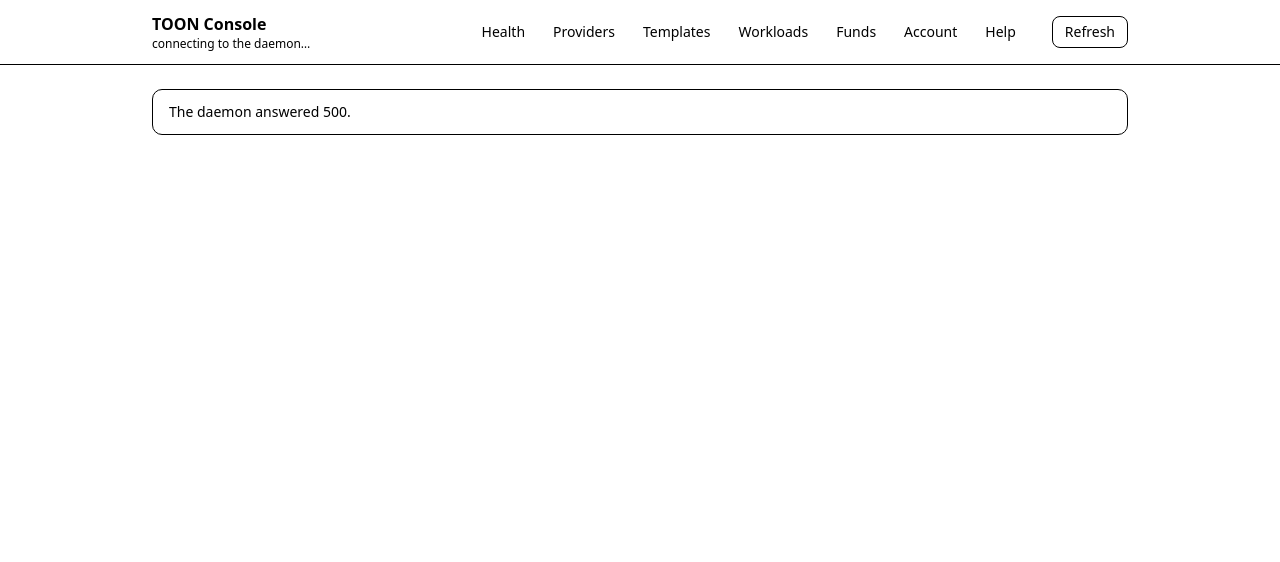
Scenario: signing in with a Nostr signer › shows a nostrconnect invitation to scan
This screenshot has width=1280, height=562.
Click the button "Account" at (931, 32), box x1=892 y1=16 x2=969 y2=48
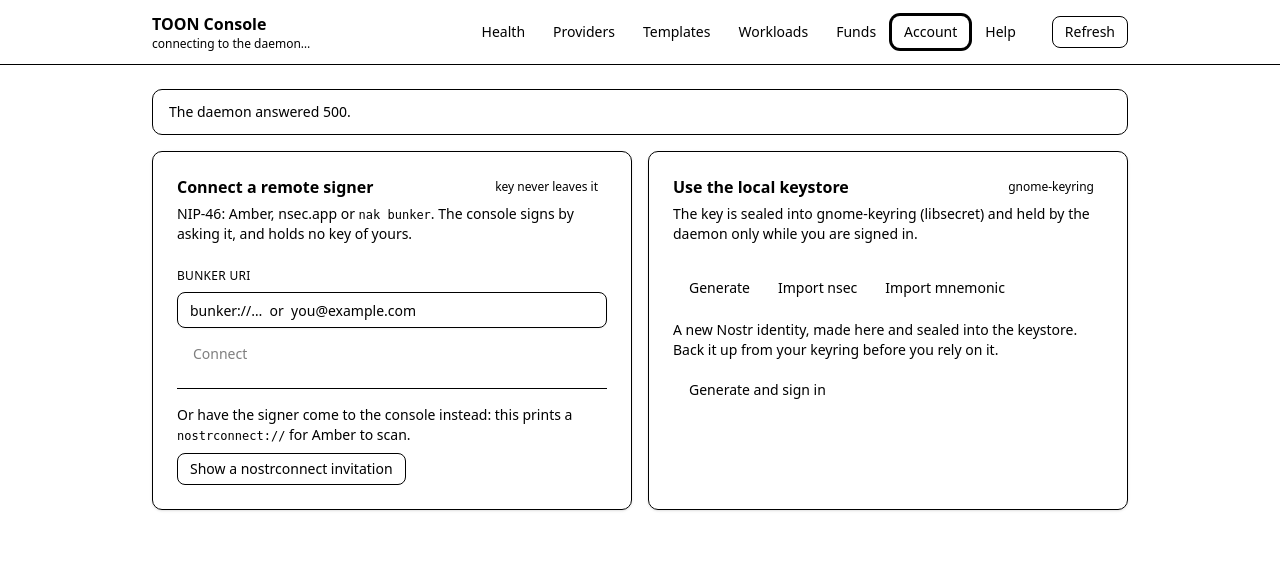
Click the button "Show a nostrconnect invitation" at (291, 469), box x1=177 y1=453 x2=406 y2=485
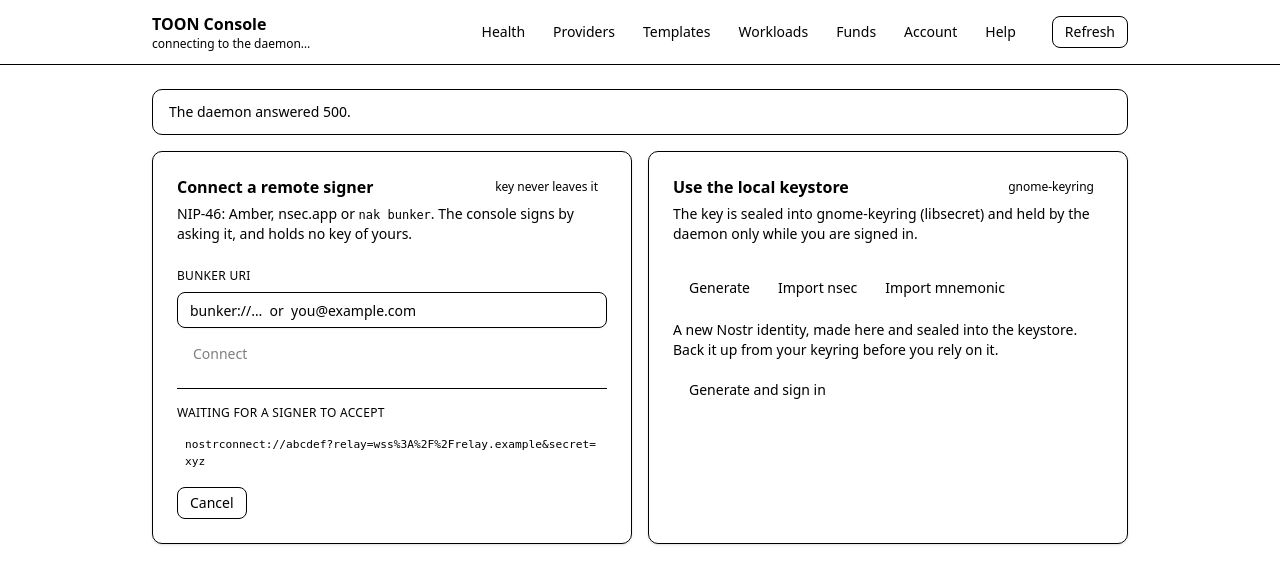
Check: the text "nostrconnect://abcdef?relay=wss%3A%2F%2Frelay.example&secret=xyz" is shown, box x1=177 y1=429 x2=607 y2=479
Check: the text "Waiting for a signer to accept" is shown, box x1=177 y1=404 x2=385 y2=421
